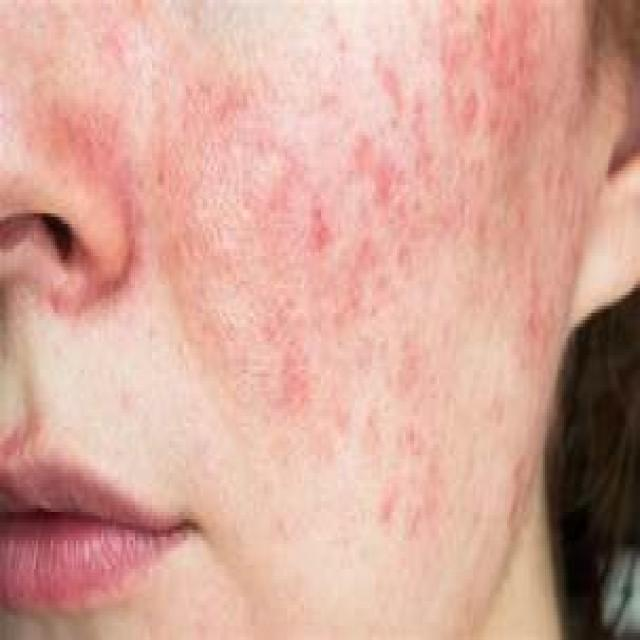Rosacea: (274, 109, 432, 422)
